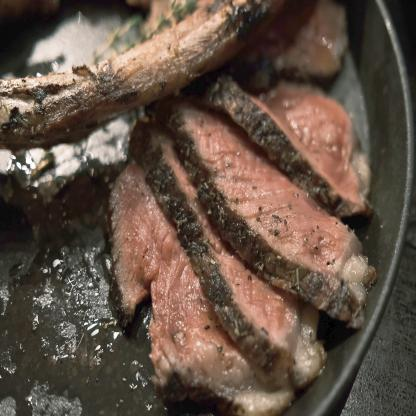Carne: (152, 130, 296, 343), (103, 171, 238, 391), (190, 104, 346, 277), (210, 92, 381, 185)
